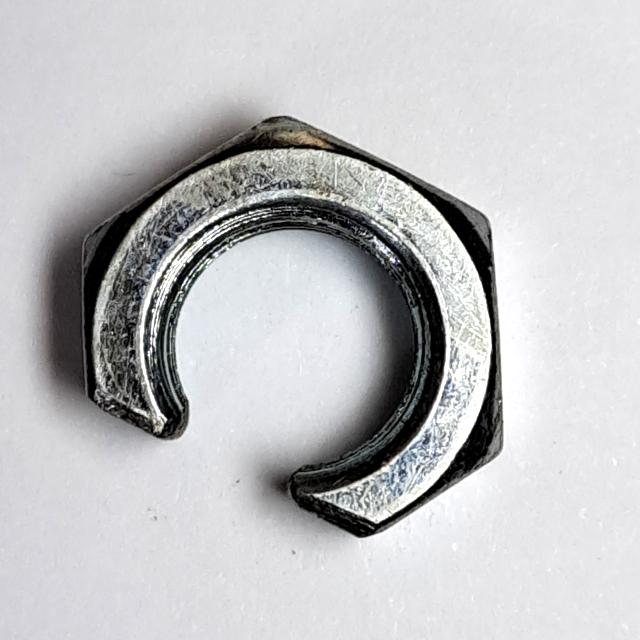Fracture: (64, 93, 525, 555)
